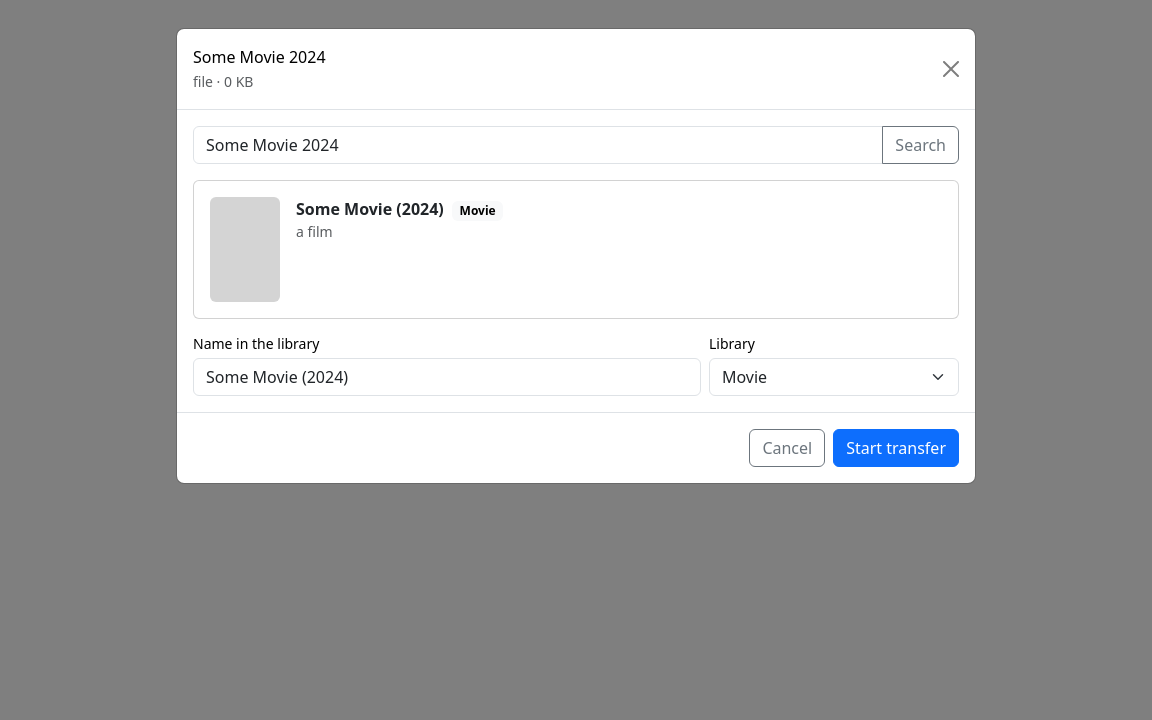
warns even when the server names no path
Check: the text "Some Movie (2024)" is shown, box [296,198,444,220]
Click the button "Start transfer" at (896, 448), box [833,429,959,467]
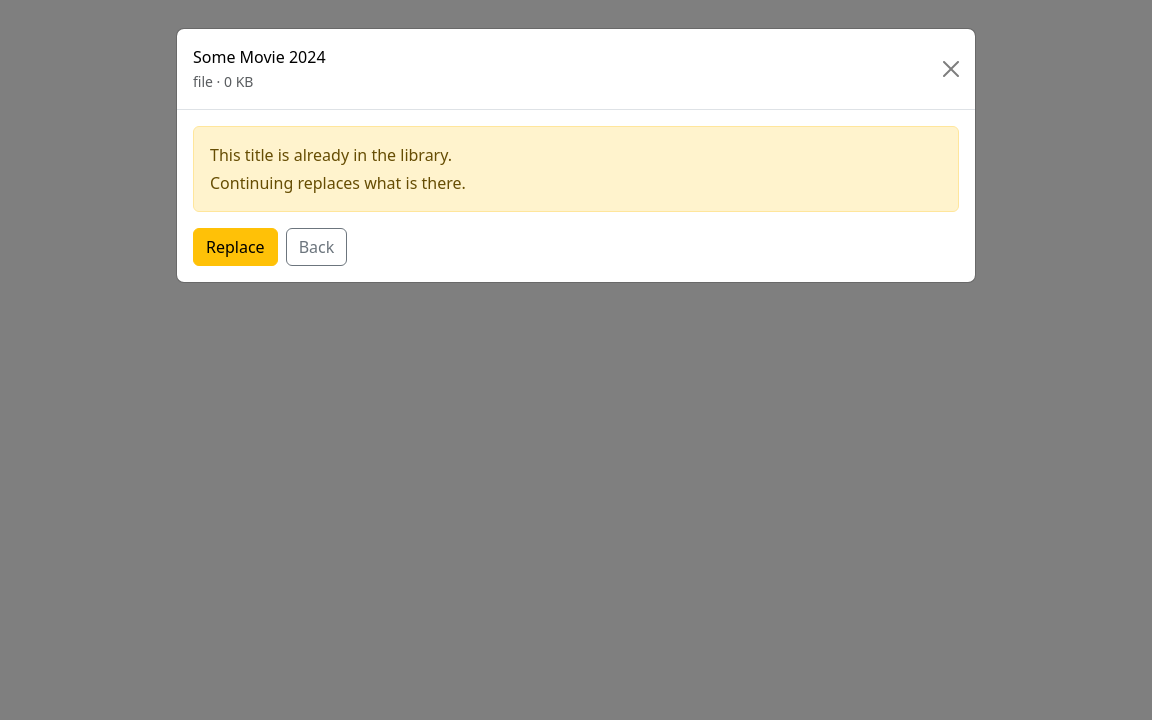
Check: the message shows "already in the library", box [210,144,452,166]
